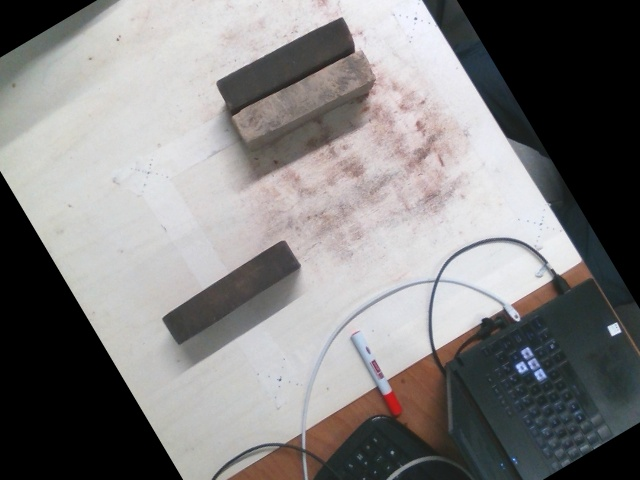brick-side: (162, 240, 298, 342), (212, 18, 351, 106), (235, 53, 373, 138)
